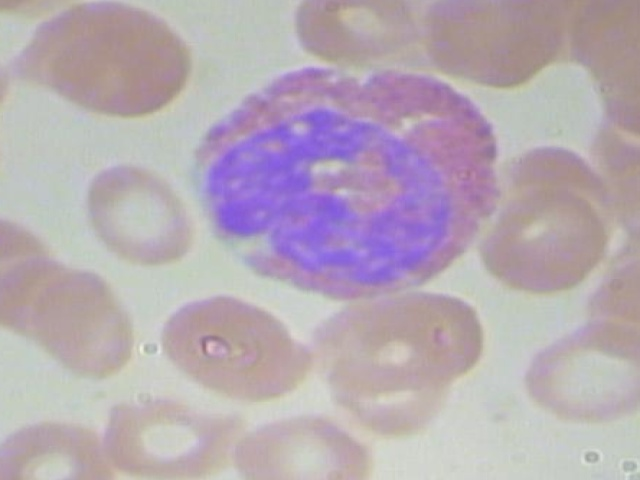RBC: (22, 0, 208, 124), (146, 288, 323, 407), (474, 181, 615, 296), (23, 264, 152, 389), (506, 313, 640, 431), (73, 160, 205, 277), (91, 386, 247, 480), (225, 410, 381, 480), (285, 0, 433, 69), (0, 415, 117, 480)
WBC: (170, 50, 519, 308)
